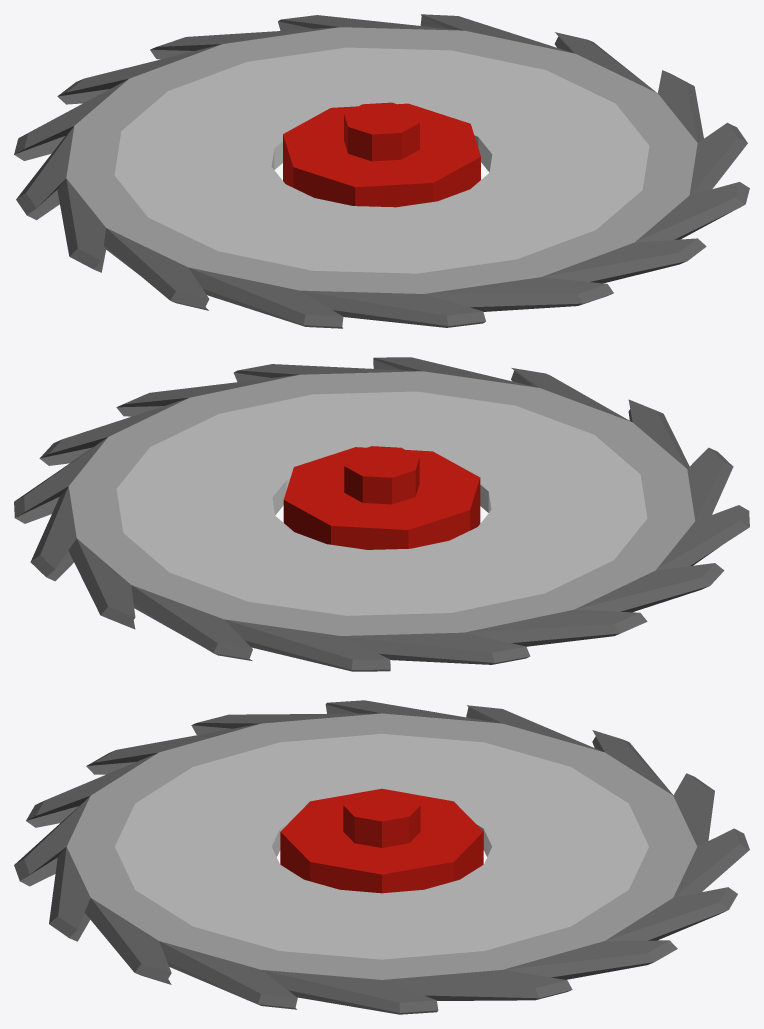
The model's file is spin blade.fbx.
3 renders of one model, top to bottom at view 1: azimuth 30°, elevation 25°; view 2: azimuth 150°, elevation 25°; view 3: azimuth 270°, elevation 25°, orthographic.
Parts seen in each view (by area): view 1: saw; view 2: saw; view 3: saw.
Boxes of the visible parts, bbox=[...] form: saw: bbox=[14, 14, 749, 328]; saw: bbox=[14, 357, 749, 671]; saw: bbox=[14, 700, 749, 1014].
Bounding box in the file's own units: 123 × 19.32 × 123.
